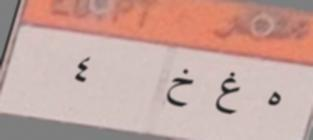4: (73, 52, 96, 87)
ghayn: (215, 69, 242, 118)
haa: (259, 83, 287, 110)
khaa: (166, 65, 195, 115)
